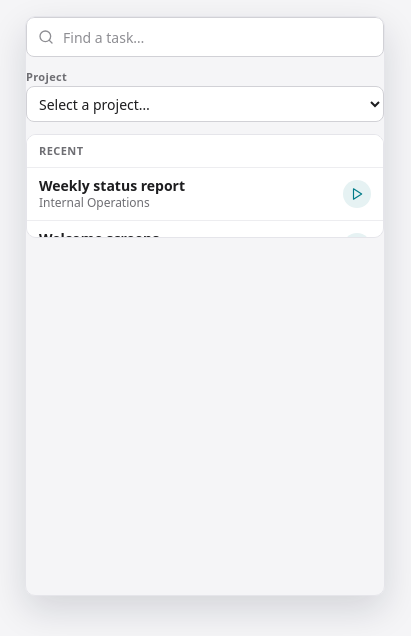
it: TaskPicker cascade › says when nothing matches
Type "zzzz" into the search field labelled "Find a task" at x=205, y=37, box [26,17,384,57]
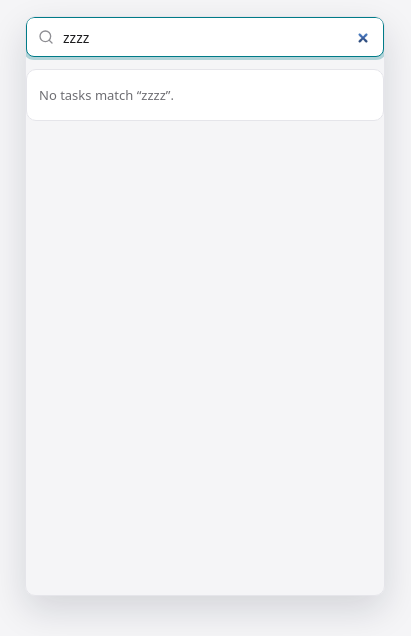
Check: the text "No tasks match “zzzz”." is shown, box [39,86,174,104]
